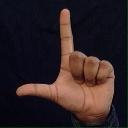L: (20, 5, 114, 121)
